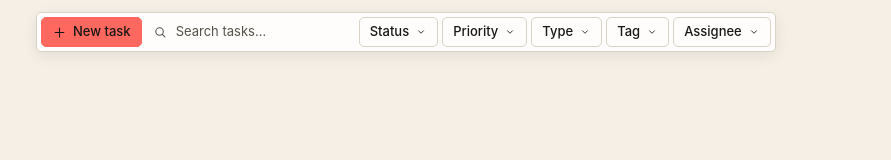
Test: Toolbar › typing in search sets q
Type "login" into the field labelled "Search tasks" at coordinates (260, 32), box [172,18,348,46]
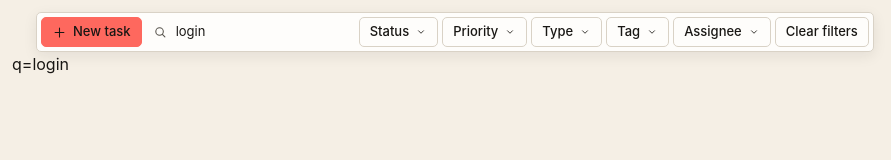
Now the text with test id "qs" reads "q=login", box [12,54,69,74]
